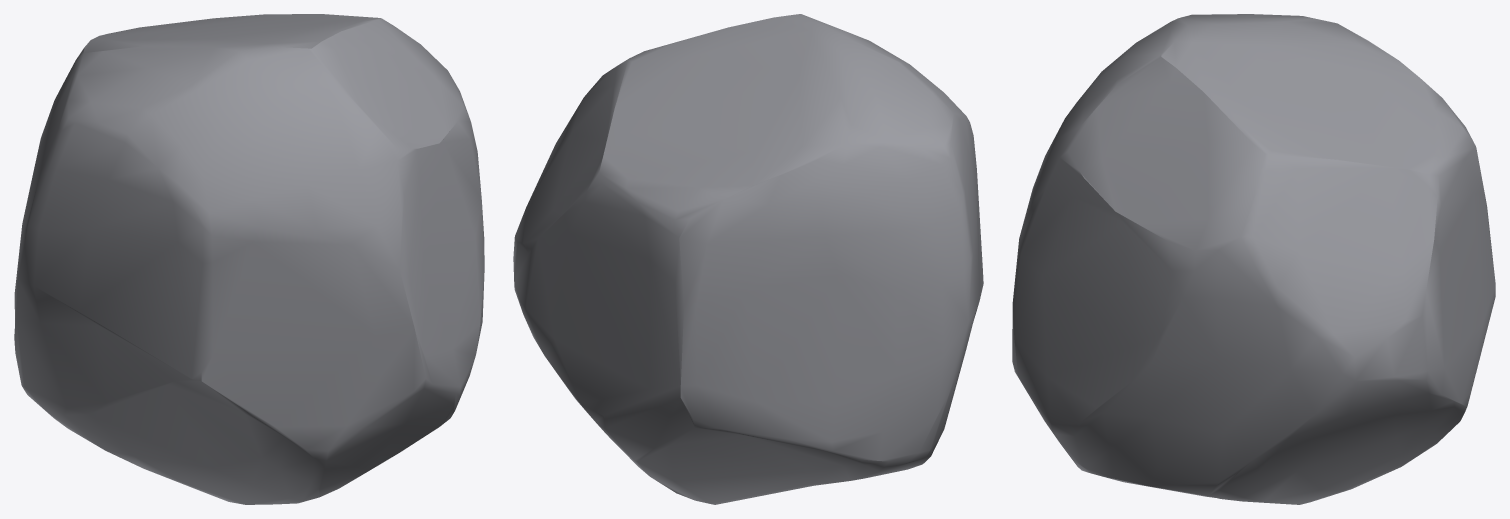
Rendered from environment-rock-5.glb.
3 views of the same model, side by side, from view 1: azimuth 30°, elevation 25°; view 2: azimuth 150°, elevation 25°; view 3: azimuth 270°, elevation 25° (orthographic). The views are drawn at different scales.
Parts seen in each view (by area): view 1: Environment_Rock_5; view 2: Environment_Rock_5; view 3: Environment_Rock_5.
Boxes of the visible parts, x1,y1,x2,y2 form: Environment_Rock_5: (14, 14, 484, 504); Environment_Rock_5: (513, 14, 983, 504); Environment_Rock_5: (1012, 14, 1495, 504).
Size of the model in its own units: 0.6053 by 0.6046 by 0.5856.
1 material, 1 textured.
